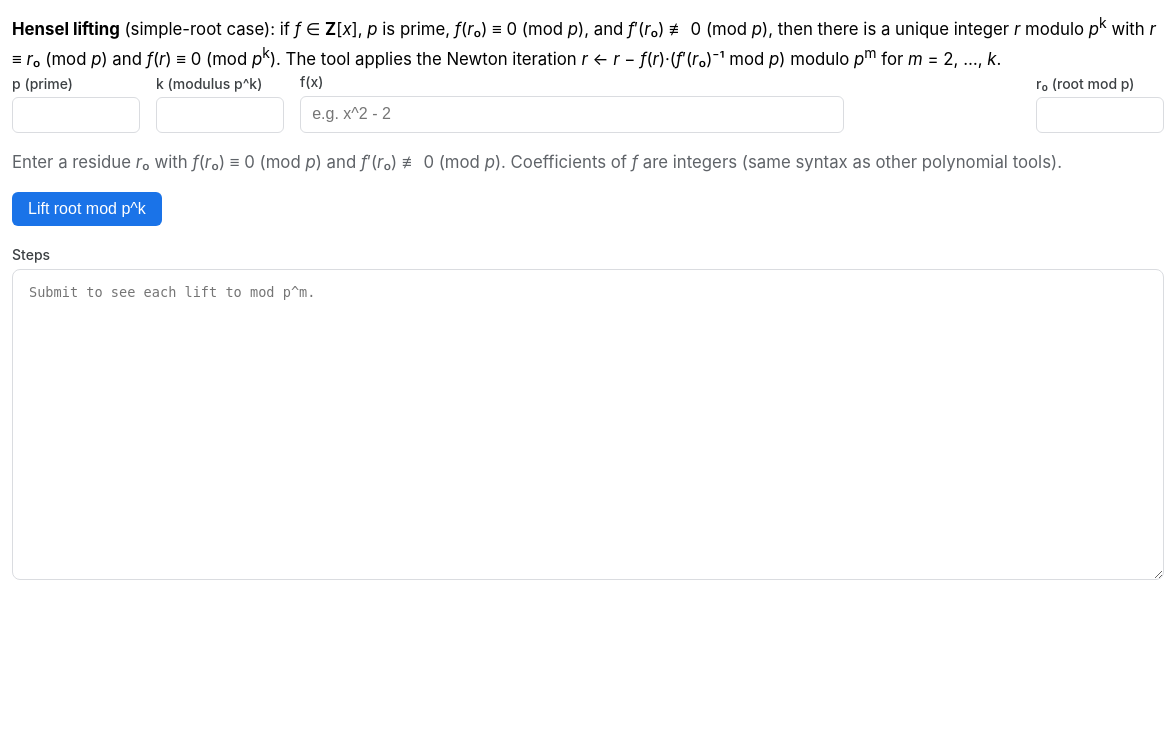
Test case: HenselLiftPage › shows error for invalid polynomial
The image size is (1176, 732).
Type "7" into the number field named "p prime".
click(76, 115); type("7")  # box left=12, top=97, right=140, bottom=133
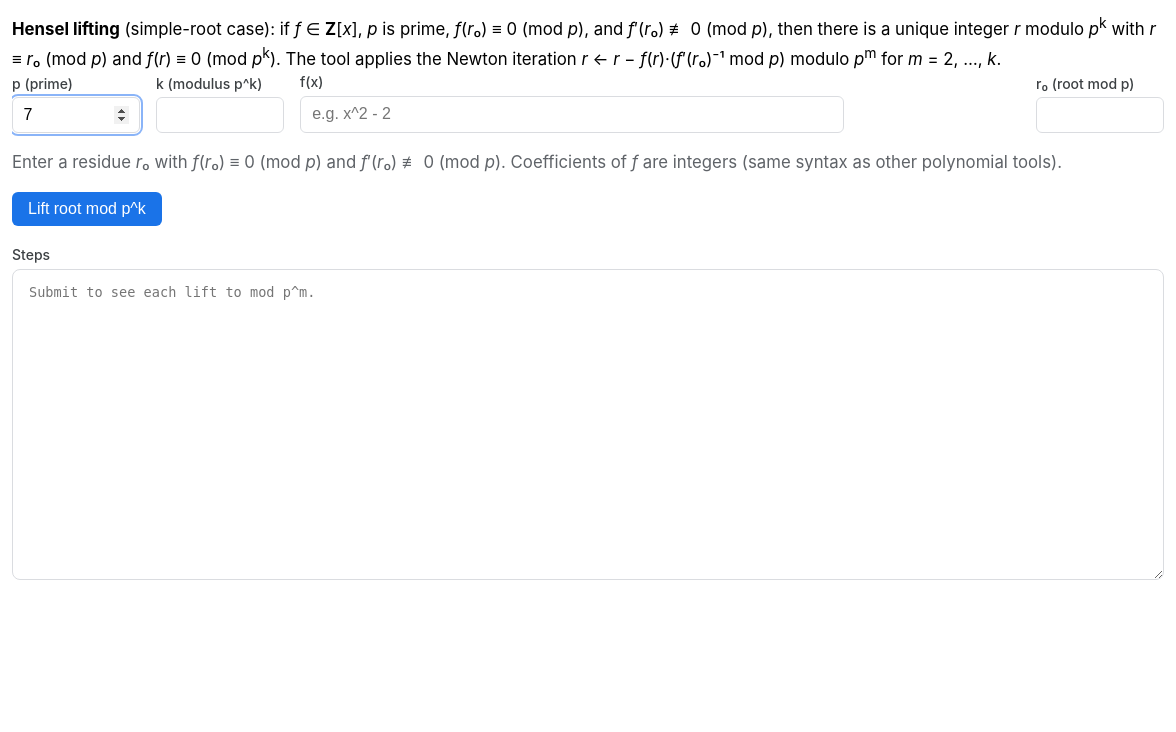
Type "2" into the number field named "k exponent".
click(220, 115); type("2")  # box left=156, top=97, right=284, bottom=133
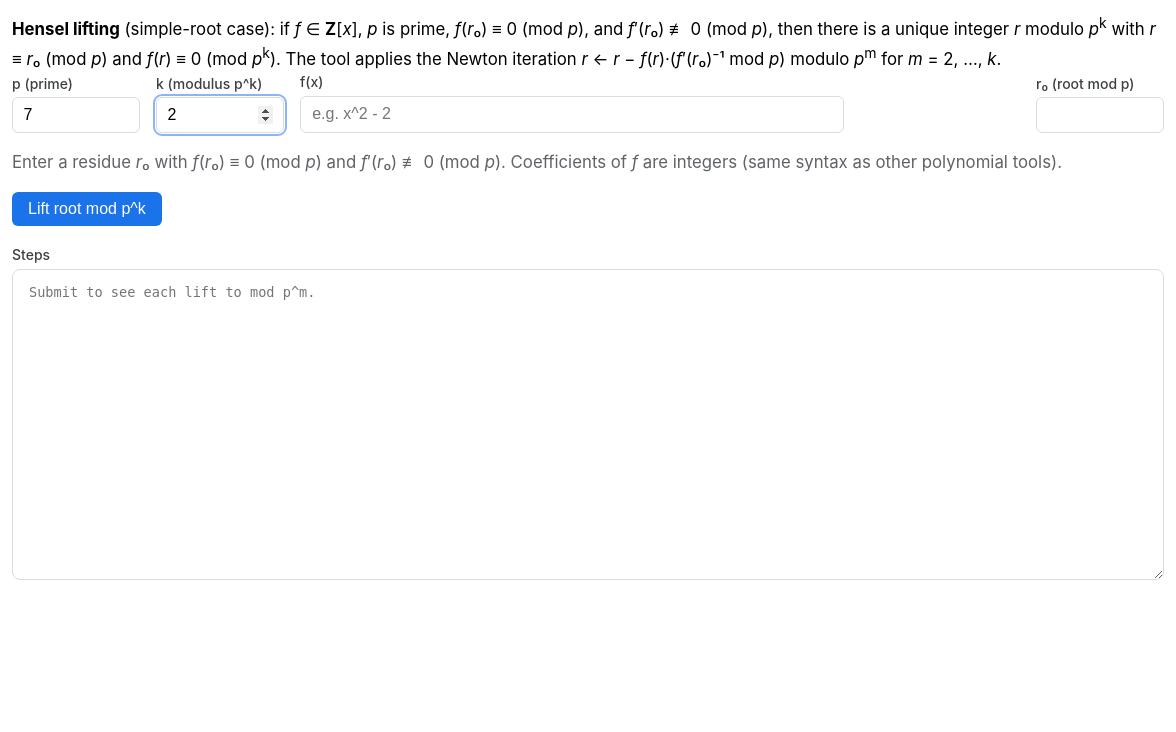
Type "x^^" into the field named "f(x) polynomial".
click(572, 114); type("x^^")  # box left=300, top=96, right=844, bottom=133
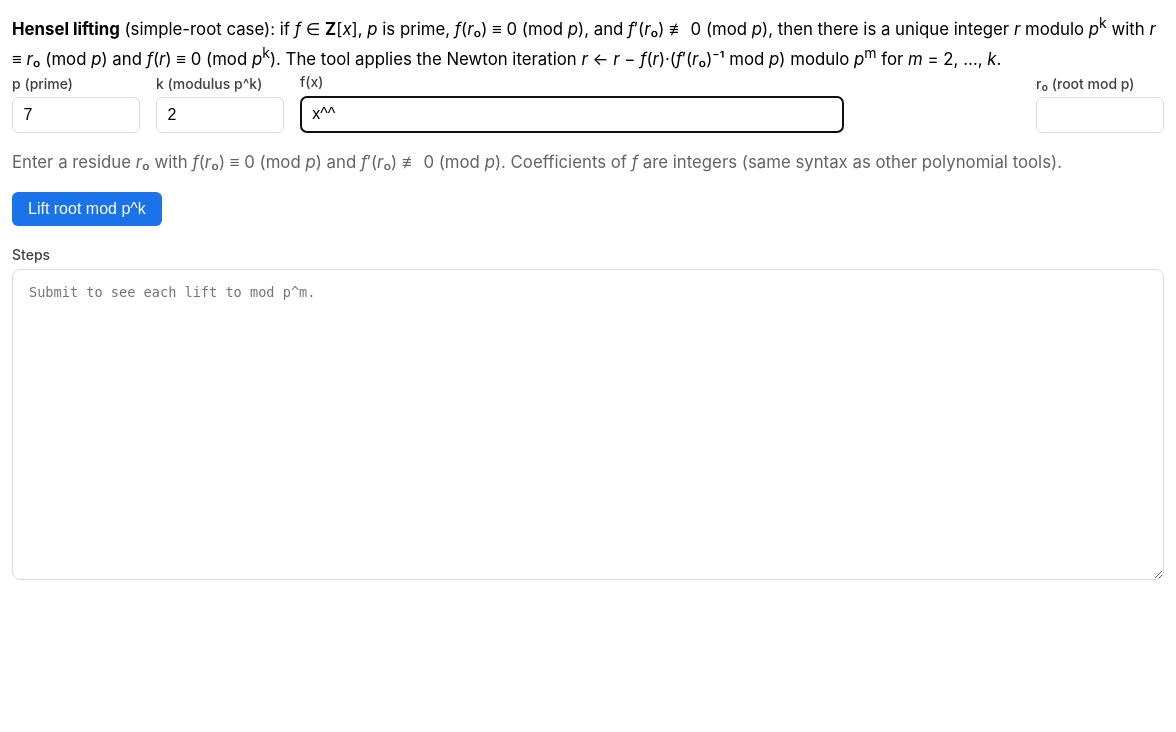
Type "3" into the field named "r0 root modulo p".
click(1100, 115); type("3")  # box left=1036, top=97, right=1164, bottom=133
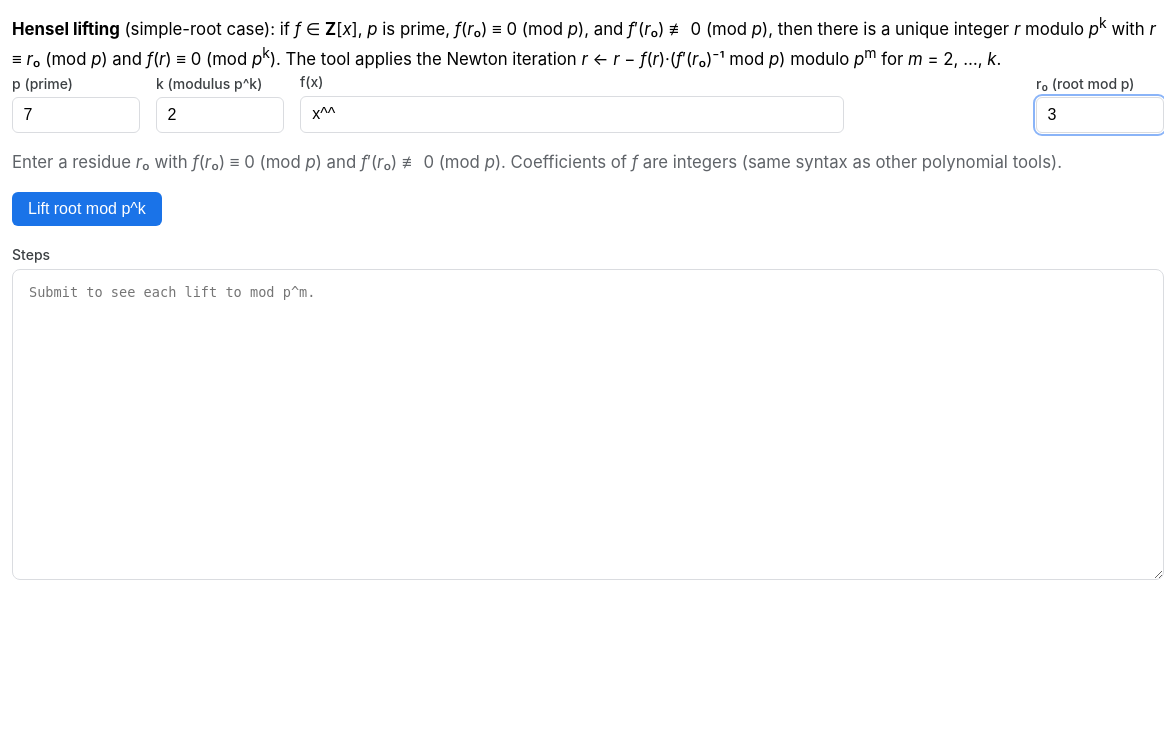
Click the button "Lift root mod p^k".
click(87, 209)  # box left=12, top=192, right=162, bottom=226
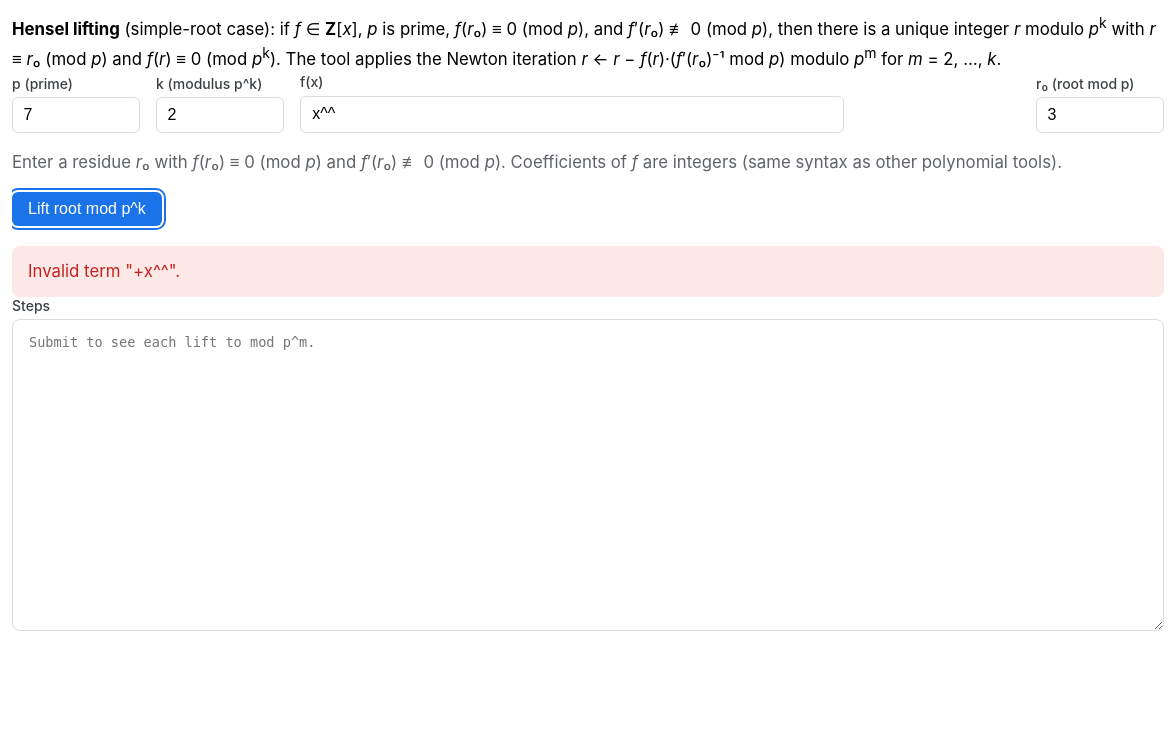
Expected: the message shows "Invalid", left=28, top=261, right=180, bottom=281
